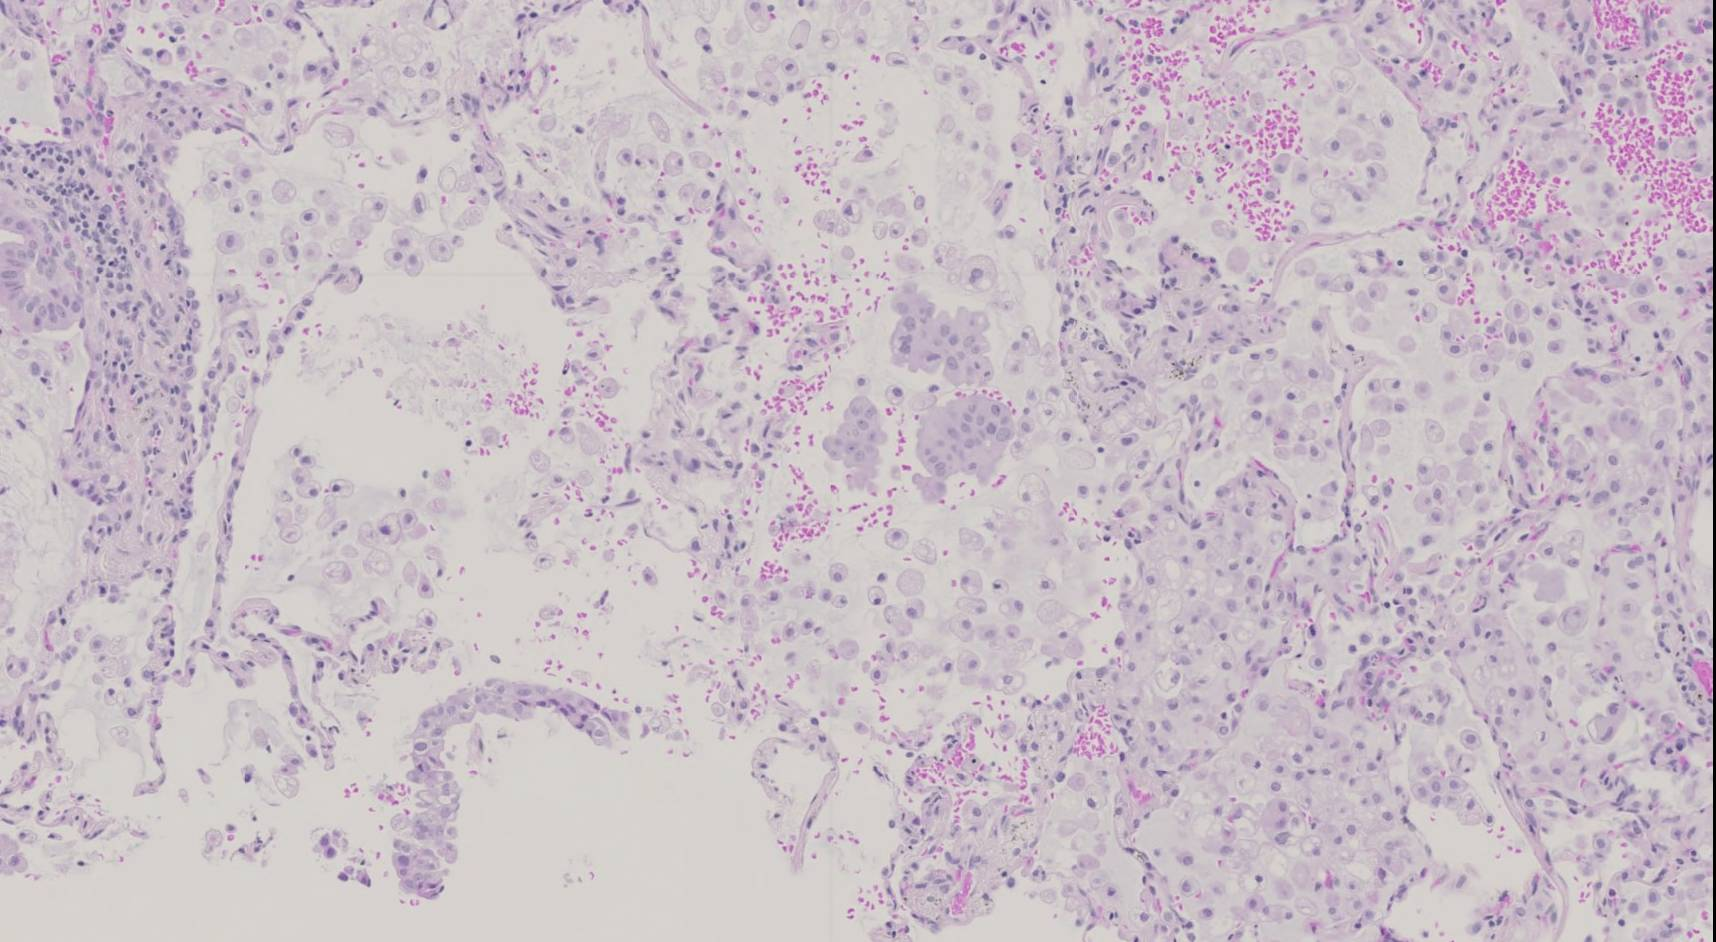stas: (390, 678, 631, 902), (913, 393, 1016, 500), (891, 290, 997, 385), (821, 396, 885, 492)
